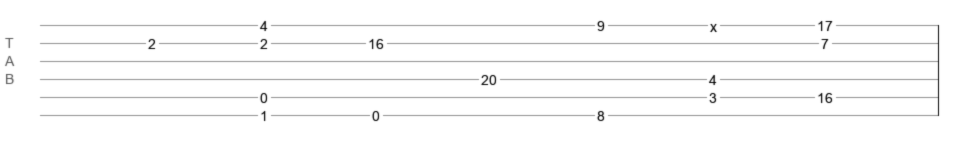0: (260, 90, 268, 100), (372, 108, 380, 118)
1: (260, 108, 268, 118)
16: (368, 36, 384, 46), (817, 90, 833, 100)
17: (817, 18, 833, 28)
2: (148, 36, 156, 46), (260, 36, 268, 46)
20: (481, 72, 497, 82)
3: (709, 90, 717, 100)
4: (260, 18, 268, 28), (709, 72, 717, 82)
7: (821, 36, 829, 46)
8: (597, 108, 605, 118)
9: (597, 18, 605, 28)
x: (710, 19, 717, 27)
